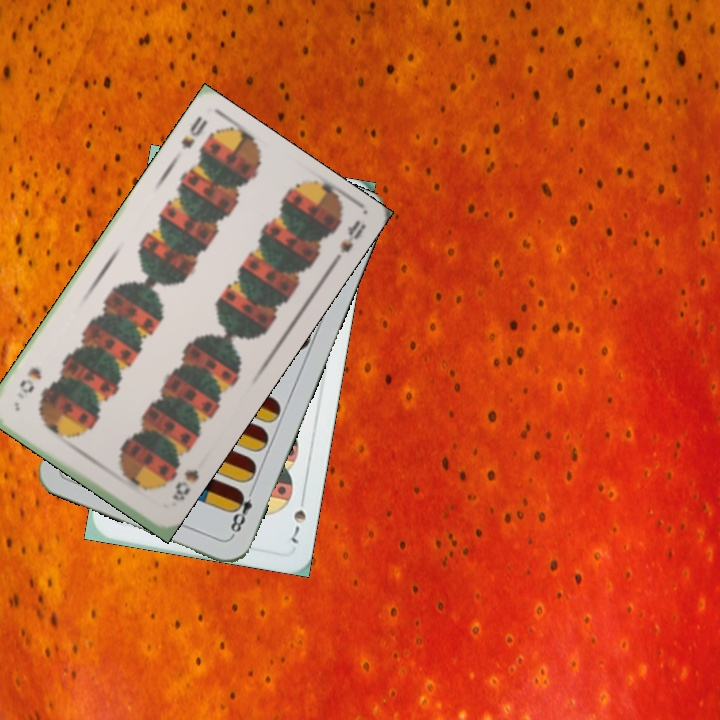E8: (226, 483, 257, 539)
S7: (287, 489, 309, 546)
S8: (177, 111, 210, 152), (168, 465, 202, 504)
